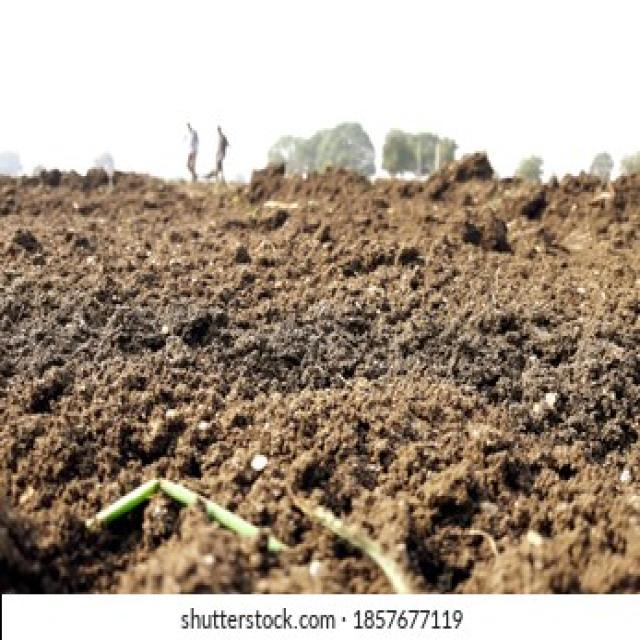Alluvial Soil: (10, 190, 618, 541)
